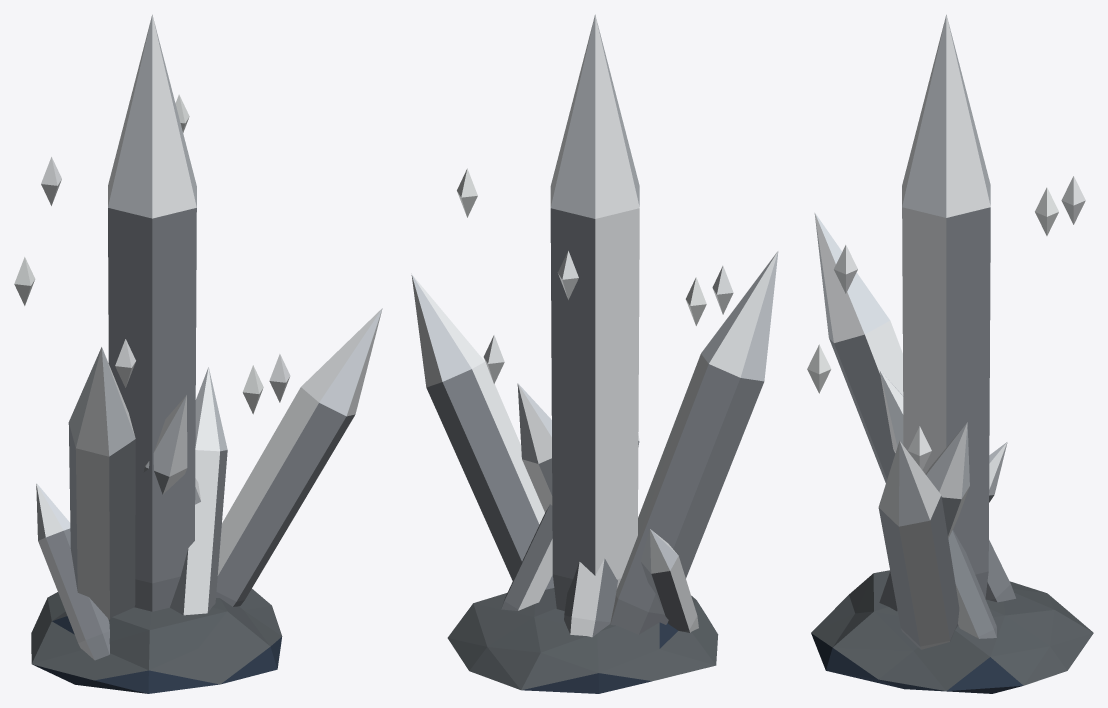
Rendered from CrystalSpire.obj.
3 views of the same model, side by side, from view 1: azimuth 30°, elevation 25°; view 2: azimuth 150°, elevation 25°; view 3: azimuth 270°, elevation 25° (orthographic).
Bounding box in the file's own units: 12.52 × 23.03 × 9.41.
